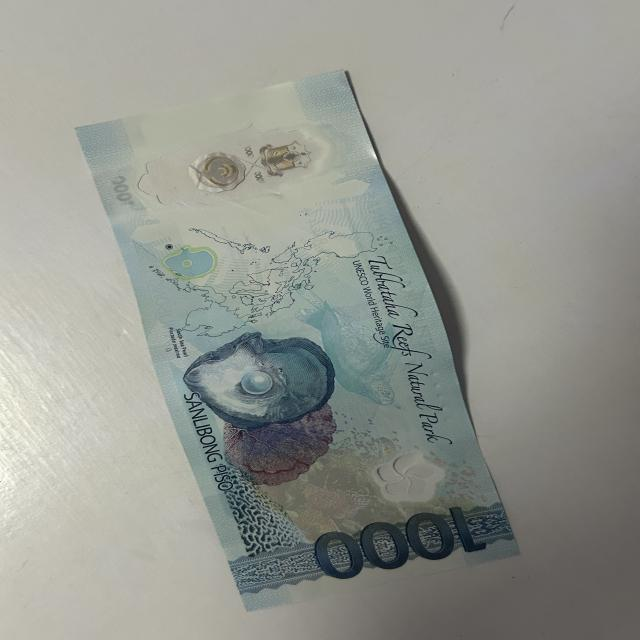sampaguita: (364, 447, 446, 506)
value: (135, 121, 348, 209), (302, 498, 497, 584)
